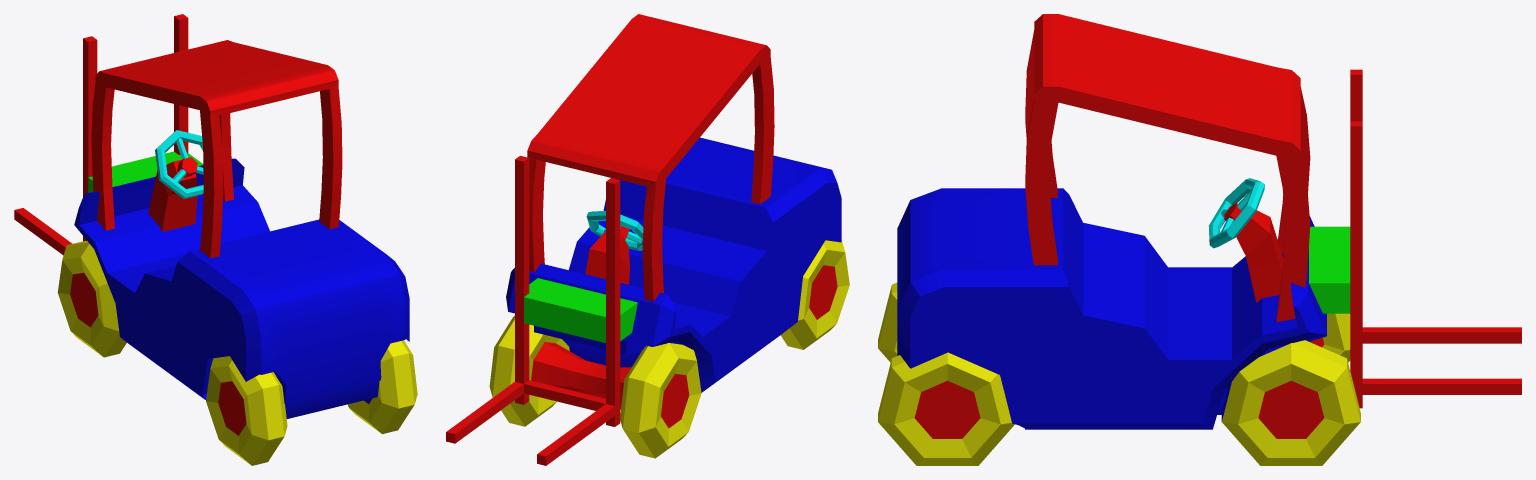
Rendered from Forklift.fbx.
The picture shows the model from 3 angles, left to right: view 1: azimuth 30°, elevation 25°; view 2: azimuth 150°, elevation 25°; view 3: azimuth 270°, elevation 25°; orthographic projection. The views are drawn at different scales.
Visible parts, largest first — view 1: pTorus11; view 2: pTorus11; view 3: pTorus11.
Part boxes in pixels (left/top/right/bottom): pTorus11: left=14, top=14, right=417, bottom=465; pTorus11: left=446, top=14, right=849, bottom=465; pTorus11: left=878, top=14, right=1521, bottom=465.
Bounding box in the file's own units: 1.83 × 3.39 × 5.29.
